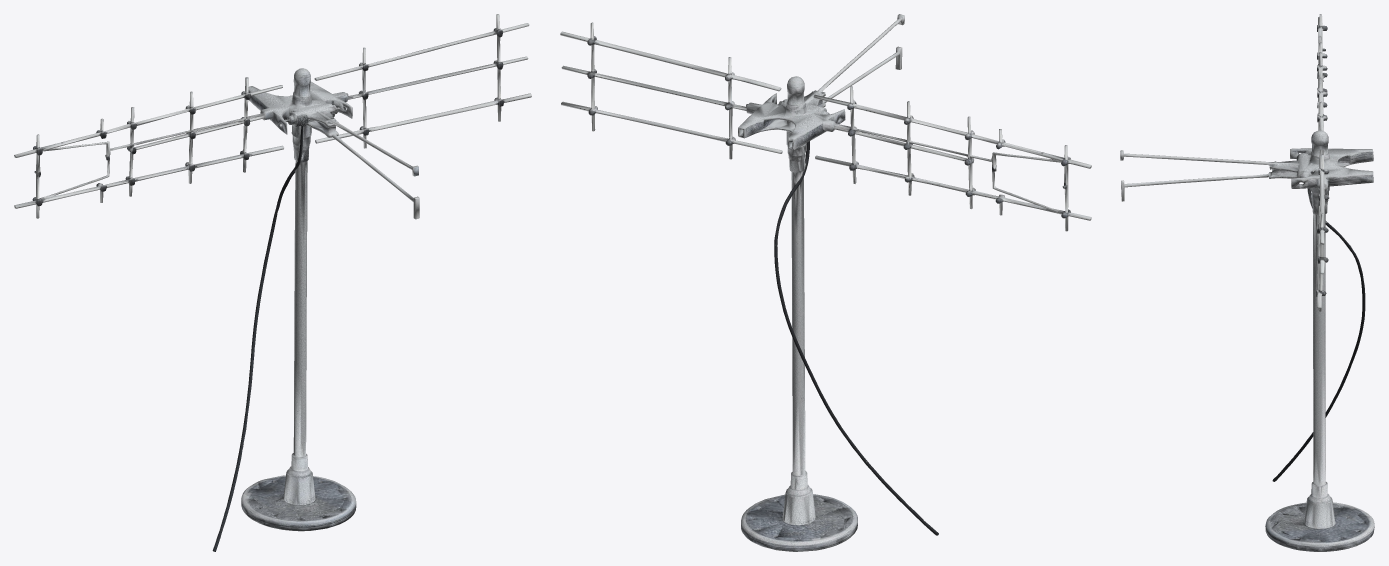
File: toit-antenne.glb
3 views of the same model, side by side, from view 1: azimuth 30°, elevation 25°; view 2: azimuth 150°, elevation 25°; view 3: azimuth 270°, elevation 25° (orthographic). The views are drawn at different scales.
Bounding box in the file's own units: 1.9 × 1.56 × 0.8846.
1 material, 1 textured.
